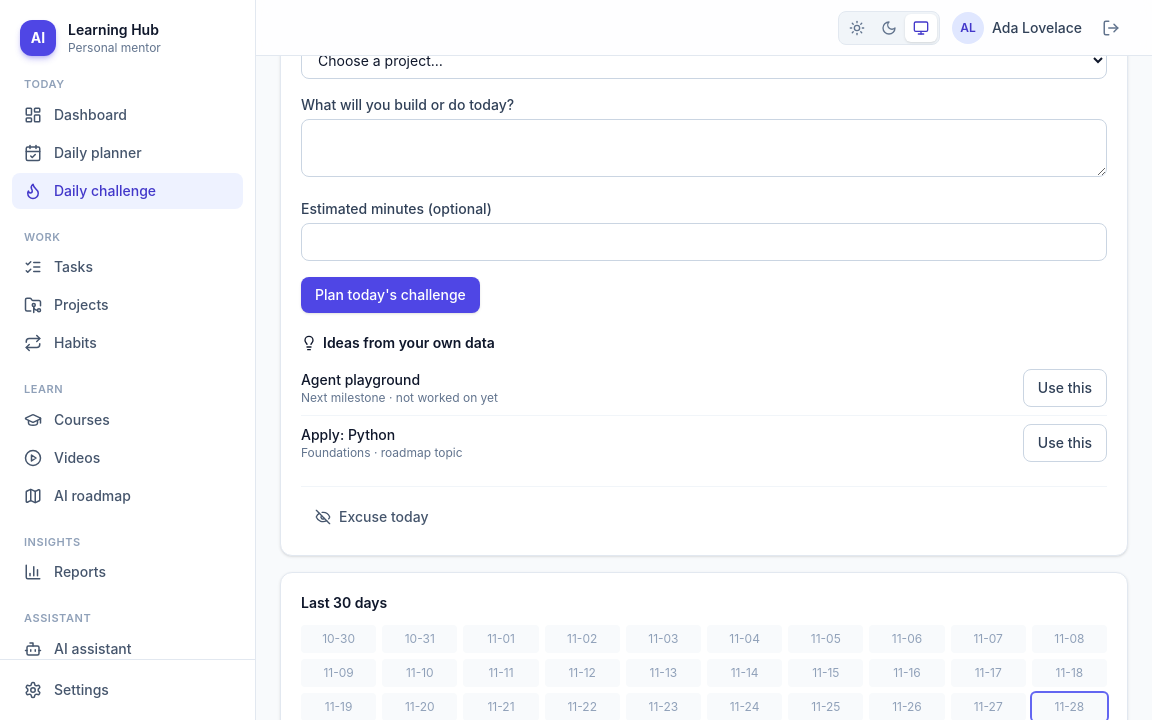
Test: daily challenge › offers suggestions built from the user's data and fills the form from one
(page scrolled)
Click the button with aria-label "Use idea: Agent playground": coordinates (1065, 388) [1023,369,1107,407]
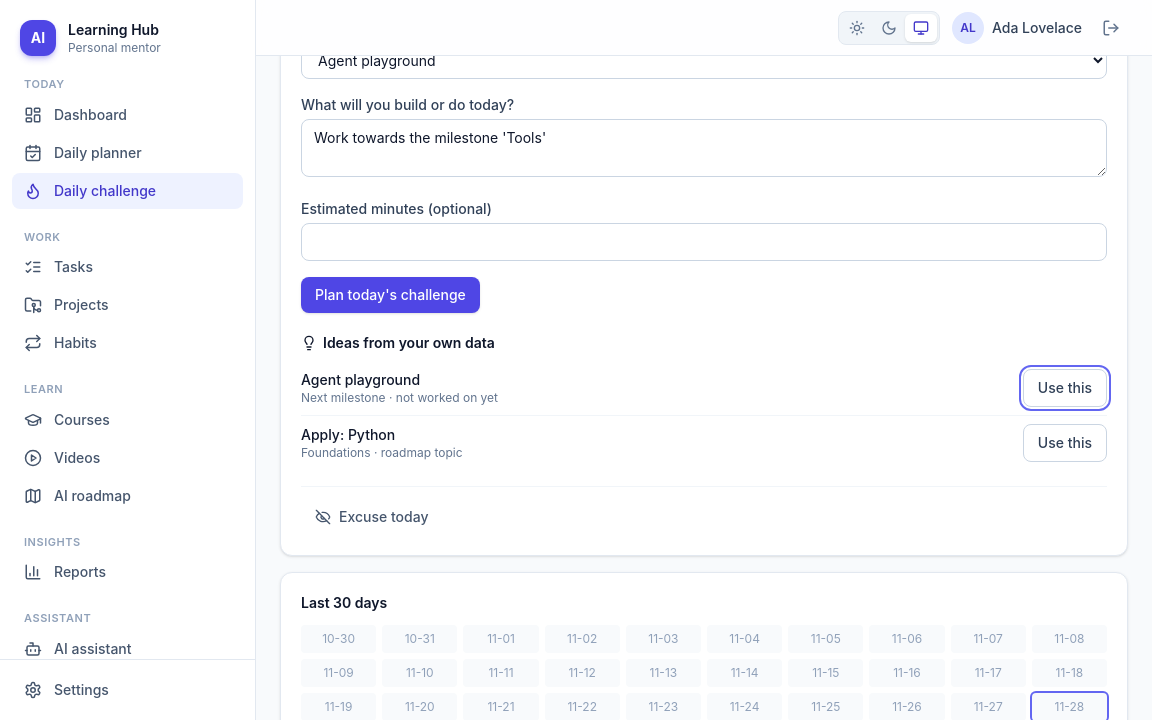
Result: the text box labelled "What will you build or do today?" holds "Work towards the milestone 'Tools'" at [301,119,1107,177]
Result: the dropdown labelled "Project" shows "Agent playground" at [301,56,1107,79]
Click the button with aria-label "Use idea: Apply: Python": coordinates (1065, 443) [1023,424,1107,462]
(page scrolled)
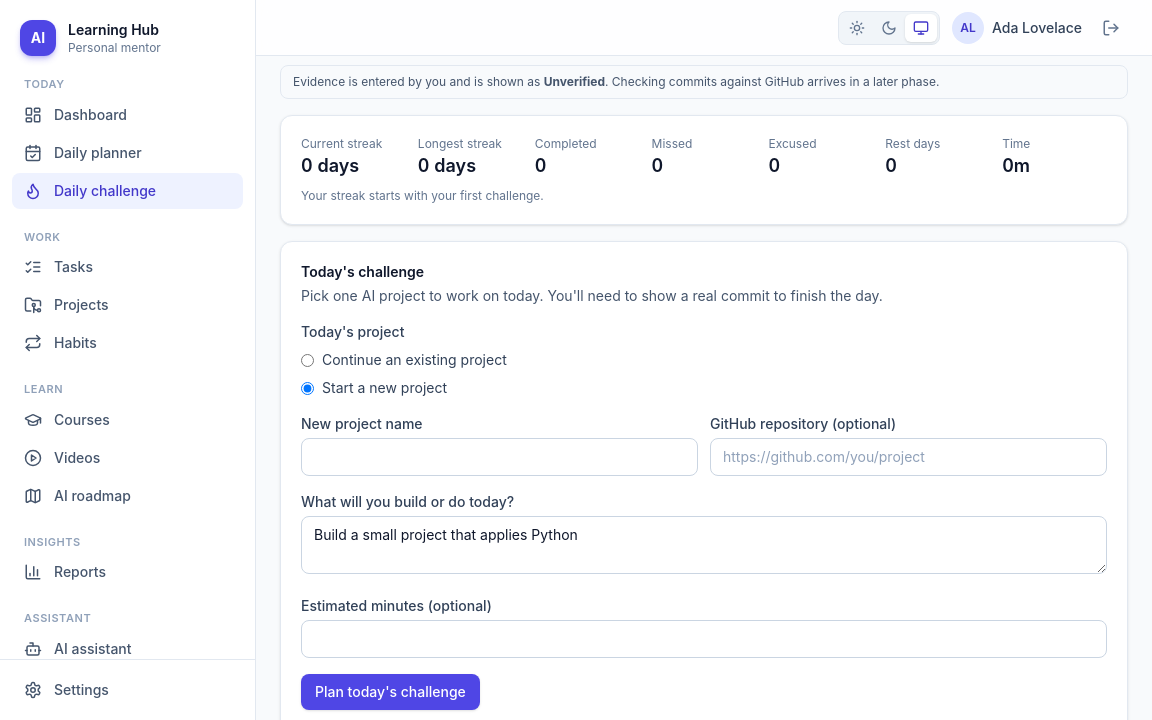
Result: the radio button labelled "Start a new project" is checked at [301,382,314,394]
